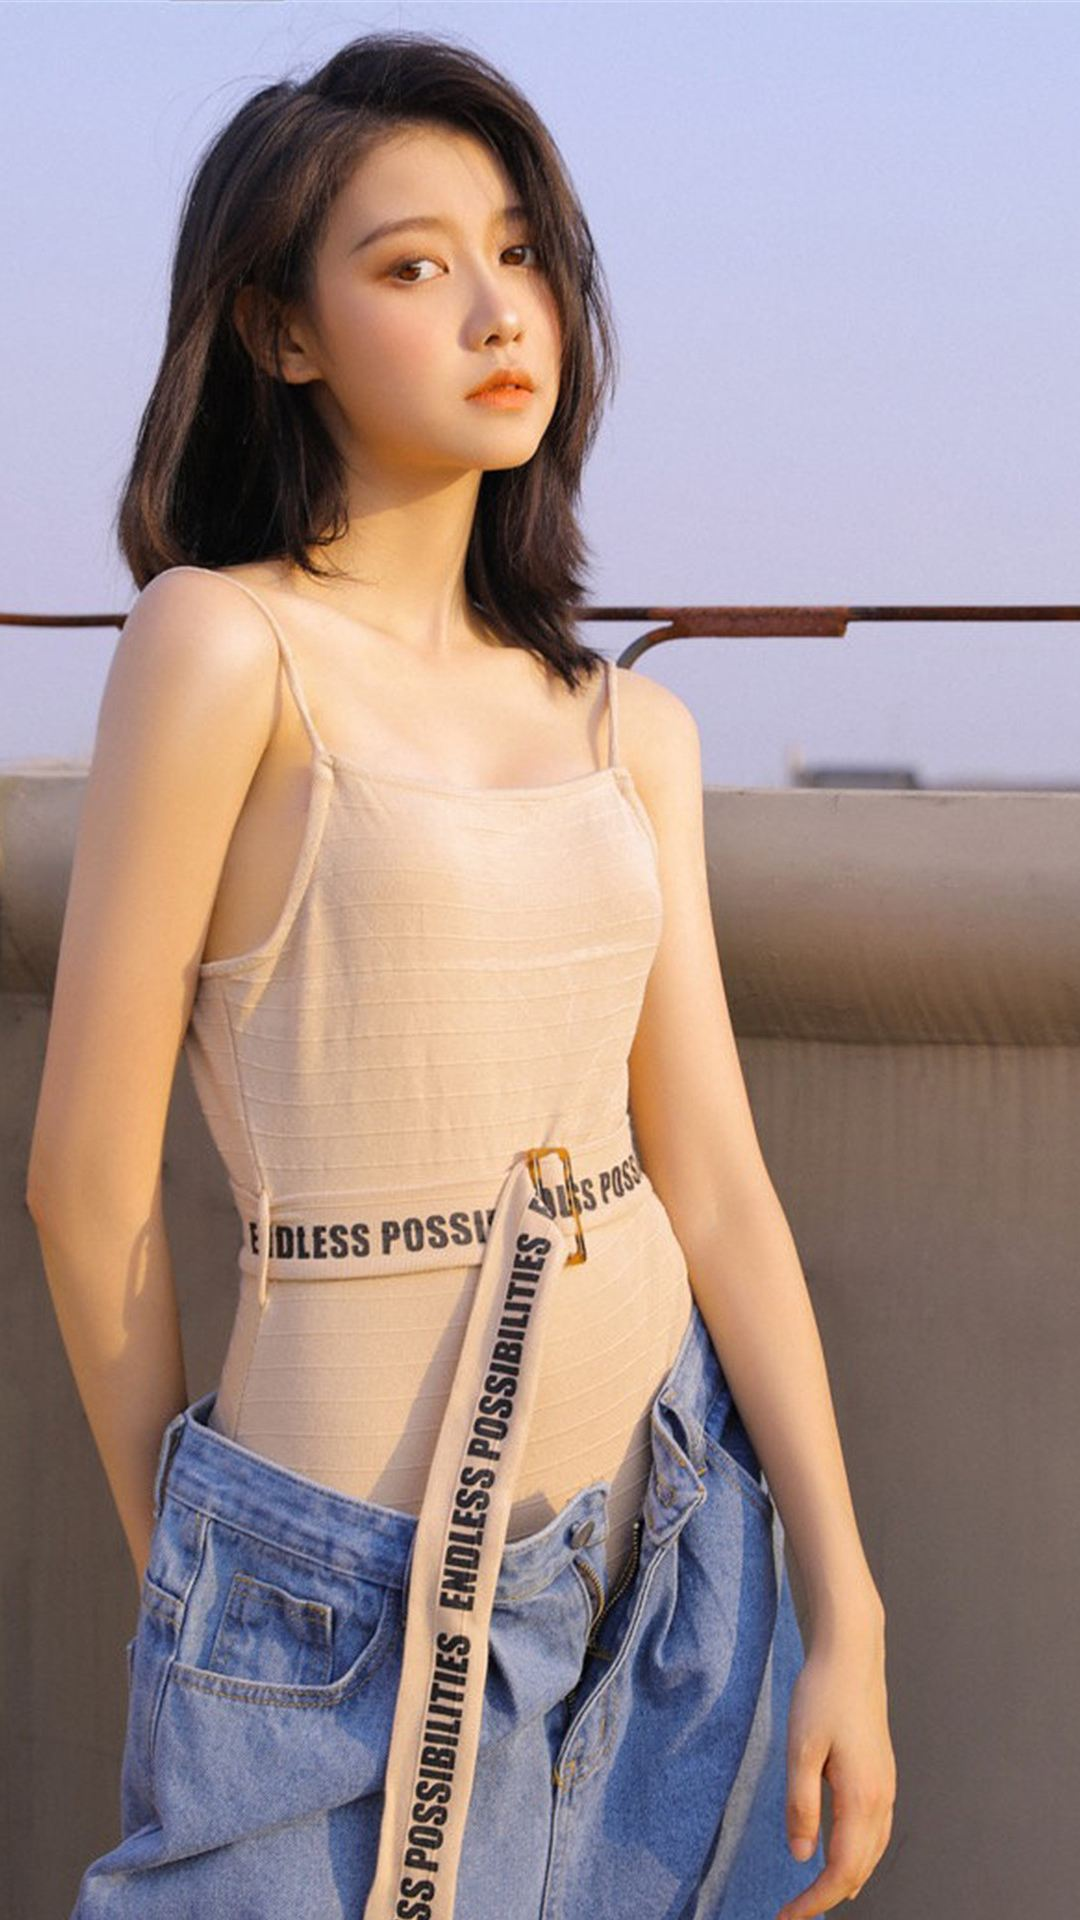person: (136, 47, 838, 1890)
